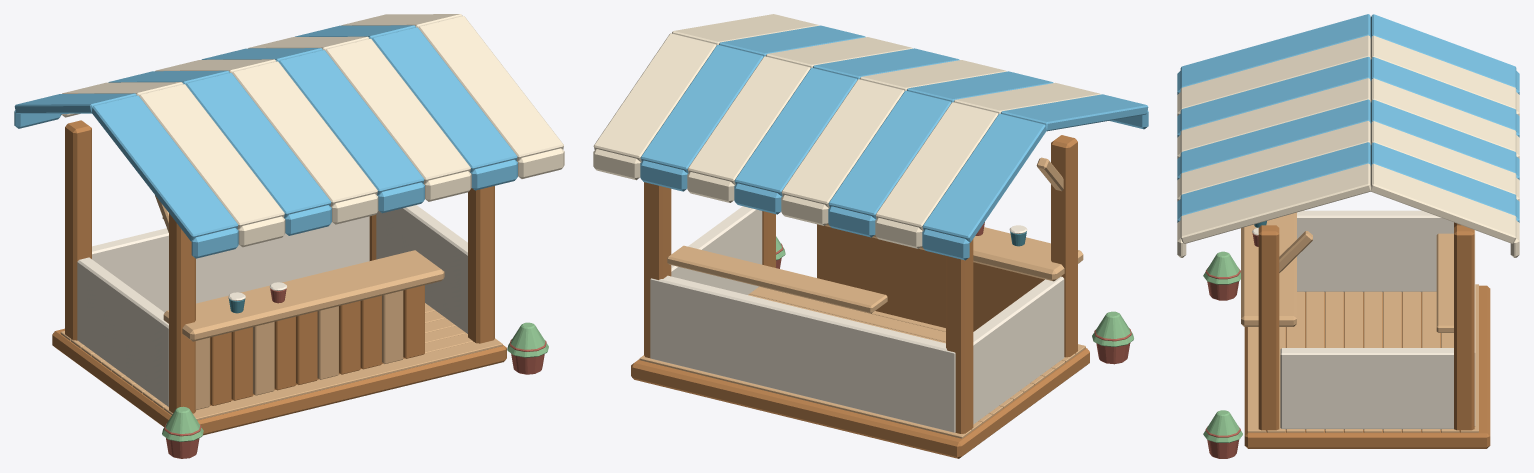
3 renders of one model, left to right at view 1: azimuth 30°, elevation 25°; view 2: azimuth 150°, elevation 25°; view 3: azimuth 270°, elevation 25°, orthographic. The views are drawn at different scales.
Visible parts, largest first — view 1: Sea-blue canvas, Cream canvas, Honey timber, Painted cream, Pale timber, Leaf green, Terracotta enamel; view 2: Sea-blue canvas, Painted cream, Cream canvas, Honey timber, Pale timber, Leaf green, Terracotta enamel; view 3: Cream canvas, Sea-blue canvas, Painted cream, Pale timber, Honey timber, Leaf green, Terracotta enamel.
Boxes of the visible parts, <box> form: Sea-blue canvas: <box>14,25,517,258</box>; Cream canvas: <box>61,14,564,247</box>; Honey timber: <box>52,120,506,435</box>; Painted cream: <box>77,205,467,406</box>; Pale timber: <box>60,195,502,420</box>; Leaf green: <box>162,322,548,441</box>; Terracotta enamel: <box>164,288,546,458</box>; Sea-blue canvas: <box>640,25,1148,260</box>; Painted cream: <box>650,206,1064,432</box>; Cream canvas: <box>593,14,1100,248</box>; Honey timber: <box>631,135,1089,458</box>; Pale timber: <box>639,157,1085,438</box>; Leaf green: <box>776,236,1133,346</box>; Terracotta enamel: <box>776,222,1131,364</box>; Cream canvas: <box>1177,35,1519,257</box>; Sea-blue canvas: <box>1177,14,1519,222</box>; Painted cream: <box>1252,210,1475,429</box>; Pale timber: <box>1241,212,1478,432</box>; Honey timber: <box>1244,222,1490,448</box>; Leaf green: <box>1203,251,1242,442</box>; Terracotta enamel: <box>1205,233,1258,458</box>.
Size of the model in its own units: 4.79 by 3.53 by 3.96.
